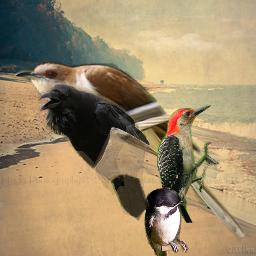Crow: (38, 84, 150, 221)
Cuckoo: (13, 60, 251, 242)
Swallow: (143, 186, 190, 256)
Woodpecker: (157, 105, 220, 223)
